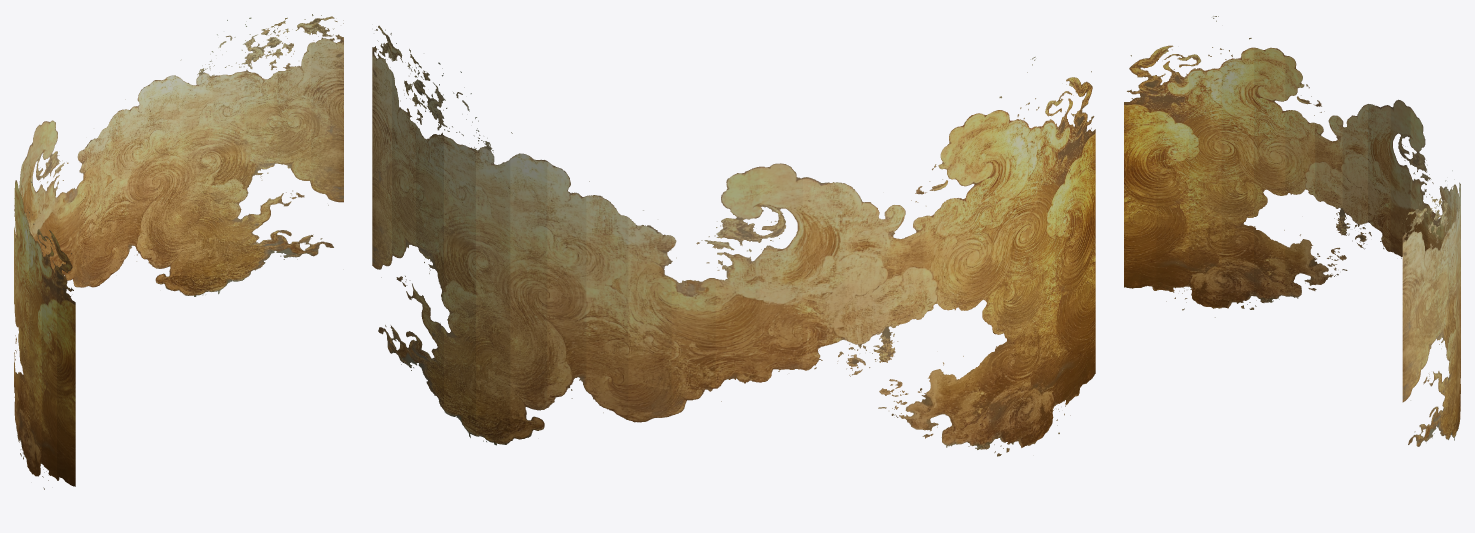
Rendered from yun_02.fbx.
3 renders of one model, left to right at view 1: azimuth 30°, elevation 25°; view 2: azimuth 150°, elevation 25°; view 3: azimuth 270°, elevation 25°, orthographic. The views are drawn at different scales.
Parts seen in each view (by area): view 1: yun_02; view 2: yun_02; view 3: yun_02.
Boxes of the visible parts, x1=… form: yun_02: x1=14, y1=14, x2=343, y2=489; yun_02: x1=372, y1=25, x2=1095, y2=456; yun_02: x1=1124, y1=16, x2=1460, y2=446.
Bounding box in the file's own units: 10739 × 7601 × 7625.
